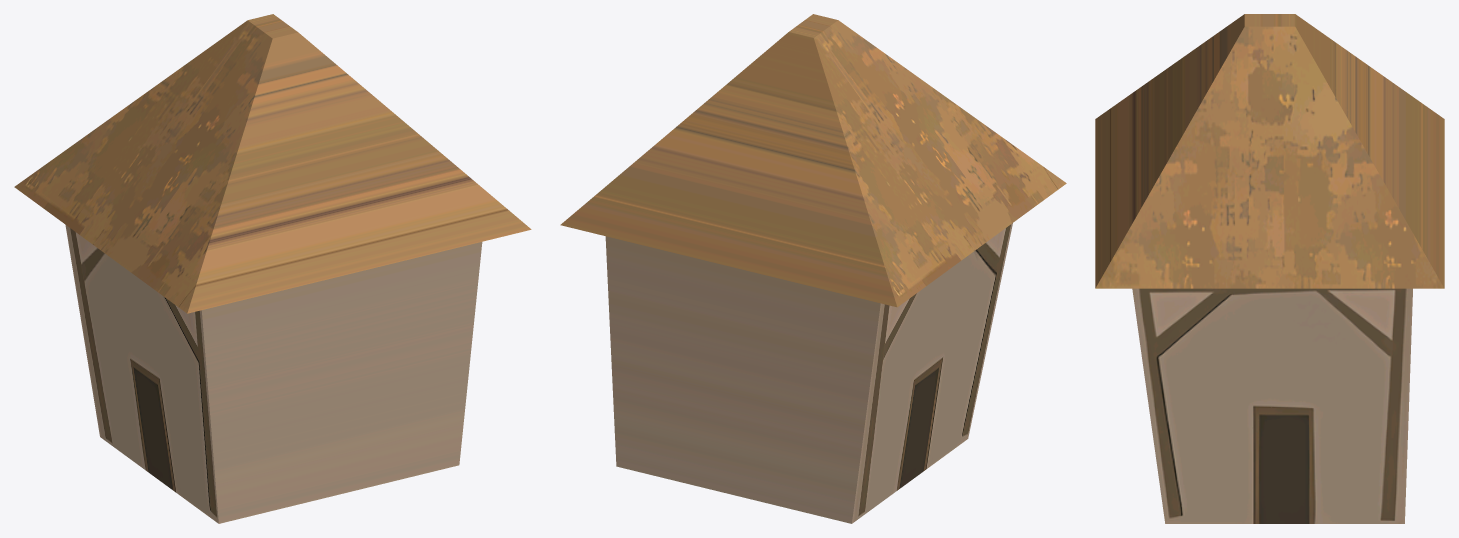
The model's file is House1.glb.
3 renders of one model, left to right at view 1: azimuth 30°, elevation 25°; view 2: azimuth 150°, elevation 25°; view 3: azimuth 270°, elevation 25°, orthographic. The views are drawn at different scales.
Parts seen in each view (by area): view 1: House1; view 2: House1; view 3: House1.
Boxes of the visible parts, x1=… form: House1: x1=14, y1=14, x2=531, y2=523; House1: x1=560, y1=14, x2=1066, y2=523; House1: x1=1095, y1=14, x2=1444, y2=523.
Bounding box in the file's own units: 76.28 × 91.75 × 66.38.
Materials: 1 (1 with a texture image).
